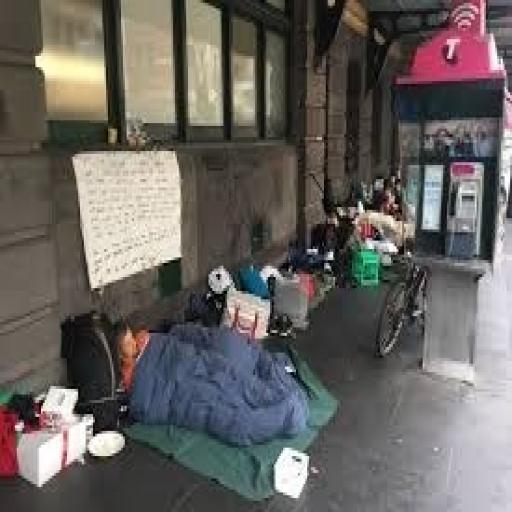sleeping: (110, 310, 311, 448)
